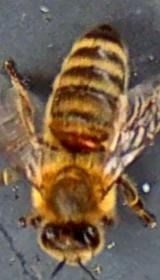varroa_mite: (64, 121, 114, 166)
